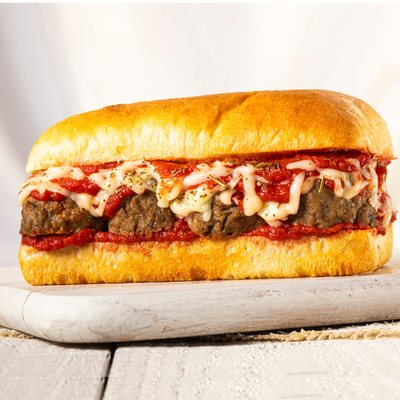soup: (13, 88, 397, 285)
